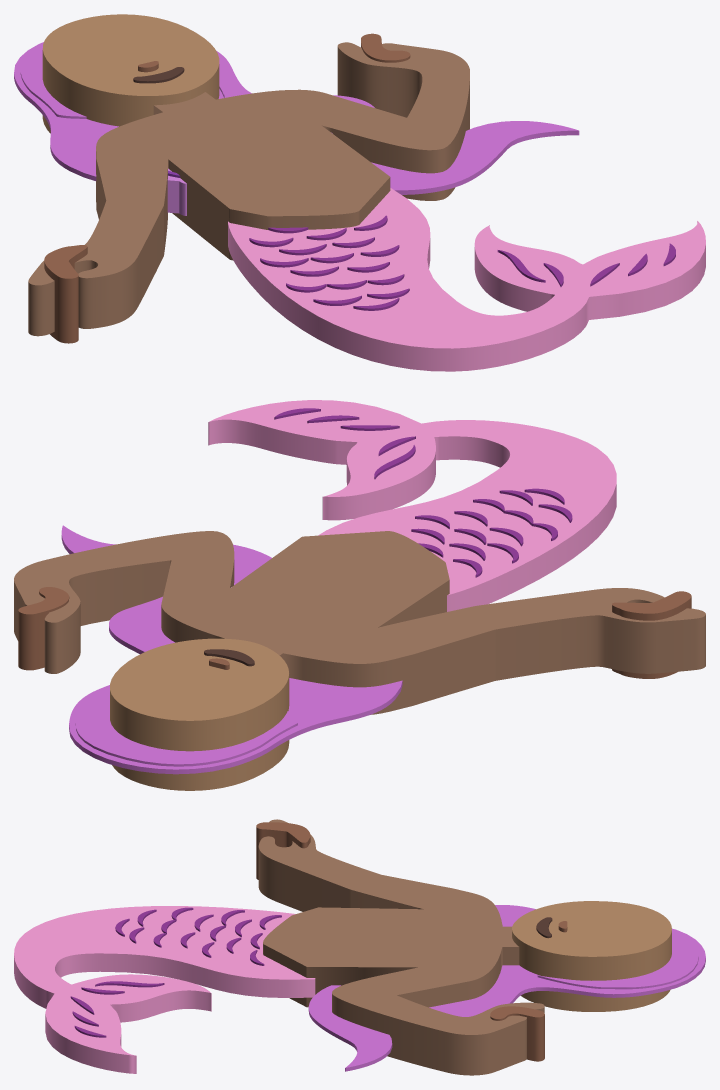
The model's file is emoji_u1f9dc_1f3fd_200d_2640.glb.
The picture shows the model from 3 angles, top to bottom: view 1: azimuth 30°, elevation 25°; view 2: azimuth 150°, elevation 25°; view 3: azimuth 270°, elevation 25°; orthographic projection. The views are drawn at different scales.
Parts seen in each view (by area): view 1: emoji_u1f9dc_1f3fd_200d_2640; view 2: emoji_u1f9dc_1f3fd_200d_2640; view 3: emoji_u1f9dc_1f3fd_200d_2640.
Part boxes in pixels (left/top/right/bottom): emoji_u1f9dc_1f3fd_200d_2640: left=14, top=14, right=705, bottom=371; emoji_u1f9dc_1f3fd_200d_2640: left=14, top=400, right=705, bottom=790; emoji_u1f9dc_1f3fd_200d_2640: left=14, top=819, right=705, bottom=1075.
Size of the model in its own units: 0.0268 by 0.0034 by 0.0341.
